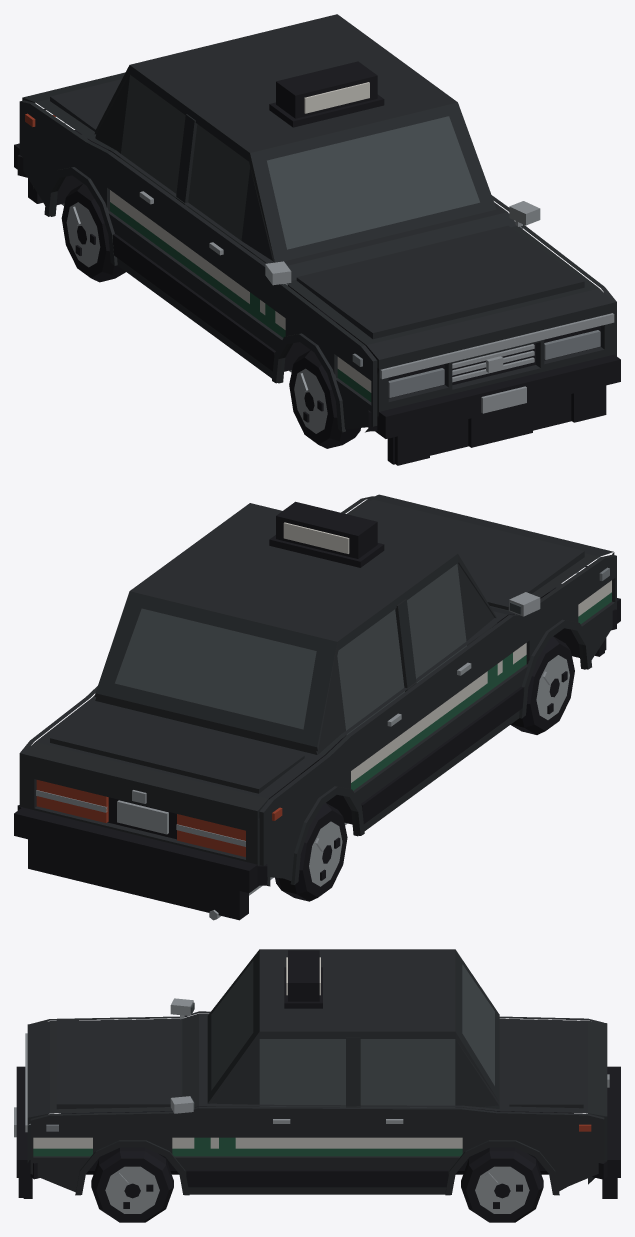
File: city-taxi-eefa91.glb
3 views of the same model, one above another, from view 1: azimuth 30°, elevation 25°; view 2: azimuth 150°, elevation 25°; view 3: azimuth 270°, elevation 25° (orthographic). The views are drawn at different scales.
Parts seen in each view (by area): view 1: city-taxi-eefa91; view 2: city-taxi-eefa91; view 3: city-taxi-eefa91.
Part boxes in pixels (left/top/right/bottom): city-taxi-eefa91: left=14, top=14, right=620, bottom=465; city-taxi-eefa91: left=14, top=494, right=620, bottom=920; city-taxi-eefa91: left=14, top=949, right=620, bottom=1222.
Bounding box in the file's own units: 1.82 × 1.69 × 4.4.
